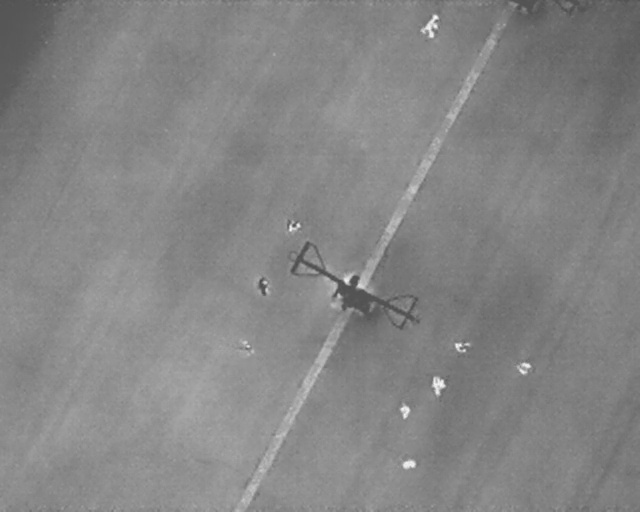Person: (420, 11, 439, 40), (429, 375, 448, 399), (256, 275, 272, 301), (399, 456, 418, 472), (513, 361, 532, 376), (452, 339, 472, 353), (397, 402, 411, 420), (285, 219, 302, 233), (239, 340, 253, 356)
